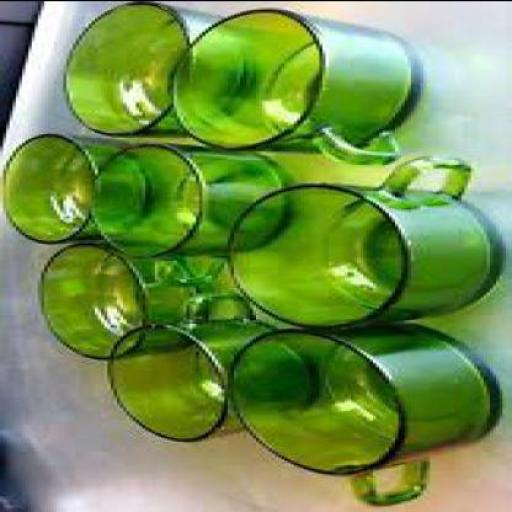glass: (225, 322, 505, 504), (224, 152, 502, 324), (168, 6, 424, 160), (105, 291, 316, 438), (89, 142, 284, 285), (60, 0, 252, 135), (35, 239, 205, 358), (1, 130, 148, 244)
